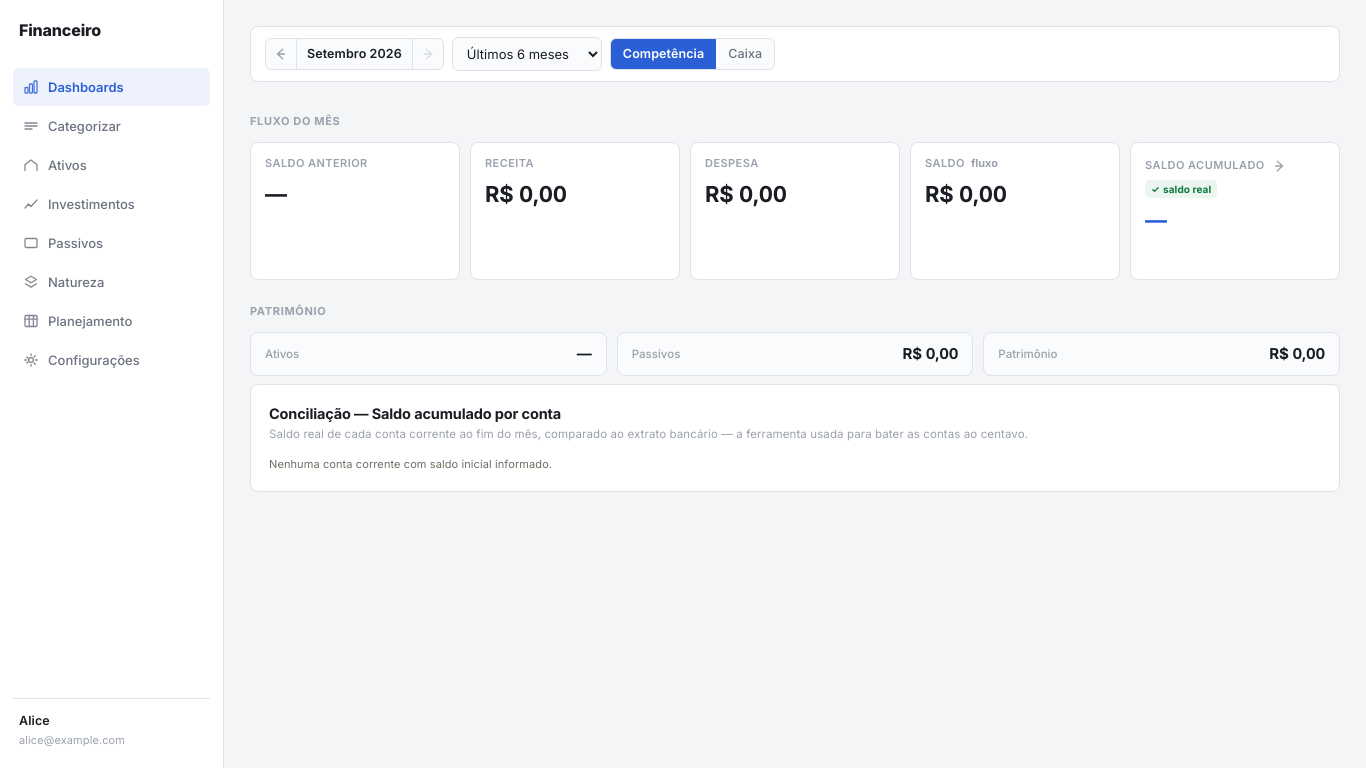
it: ProtectedPage navigation › switches to the Passivos tab and renders LiabilitiesPage
Step 1. Click the button "Passivos" → (112, 243), box [13,224,210,262]
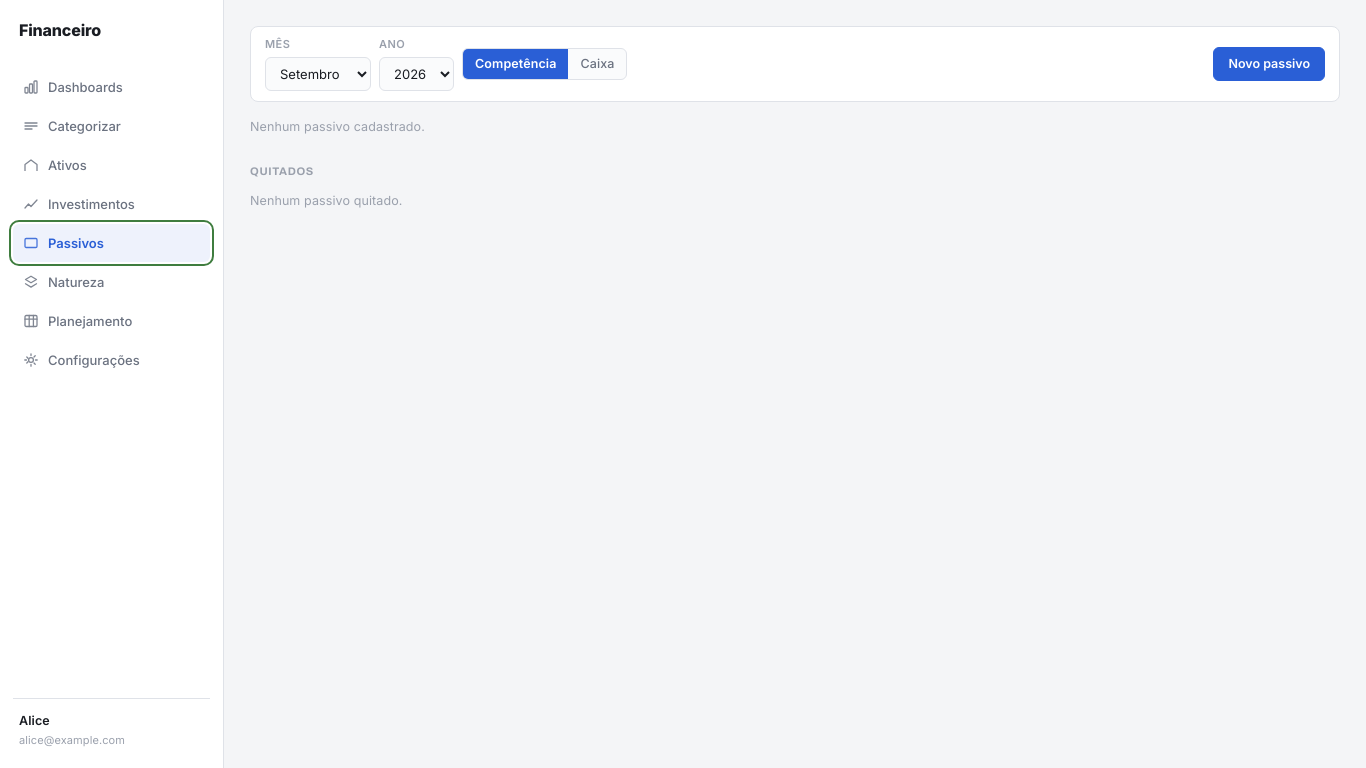
Result: the button "Novo passivo" is shown at [1213,47,1325,81]
